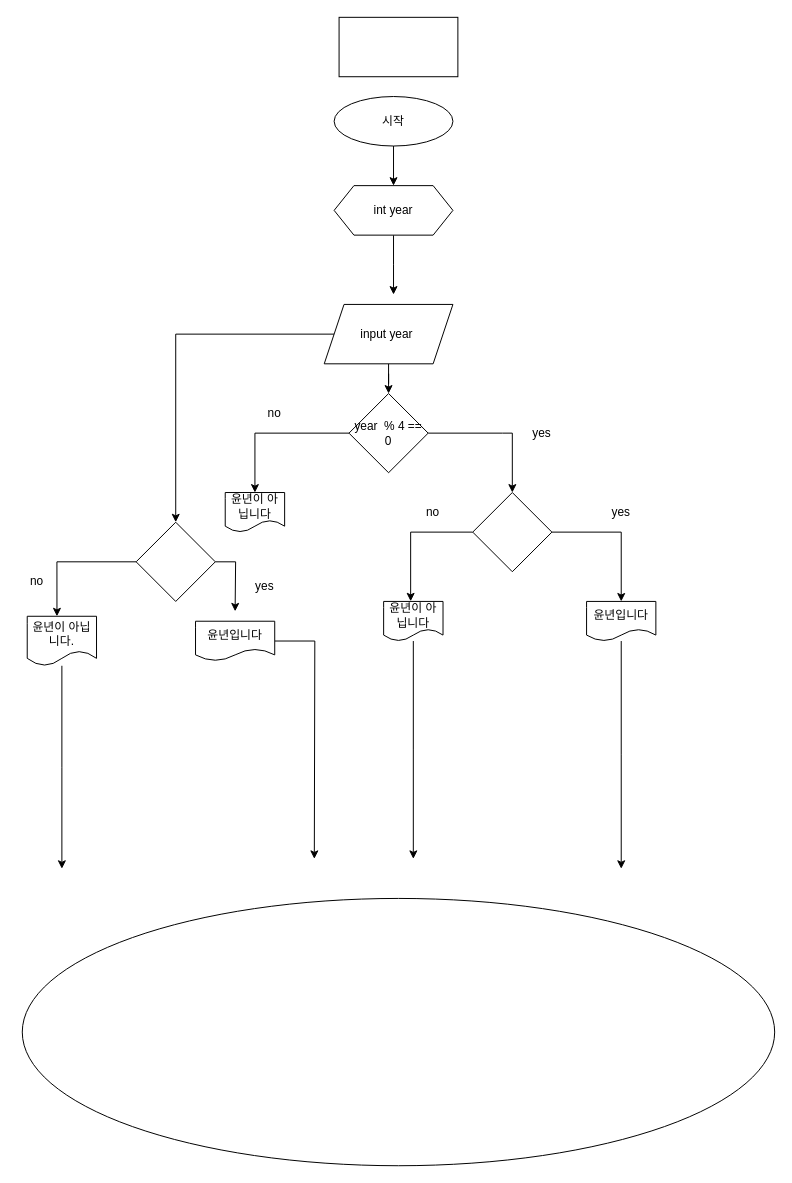
Some shapes in this 792 by 1183 pixel diagram are drawn without their labels. Here are the shapes that lost their labels. From the top down, the centre of each, then its label:
At point 398,46: "문제: 연도를 입력받았을 때 윤년인지 아닌지 판단하시오.".
At point 512,532: "year % 100 ! = 0".
At point 175,561: "year % 400 == 0".
At point 398,1031: "끝~~".
